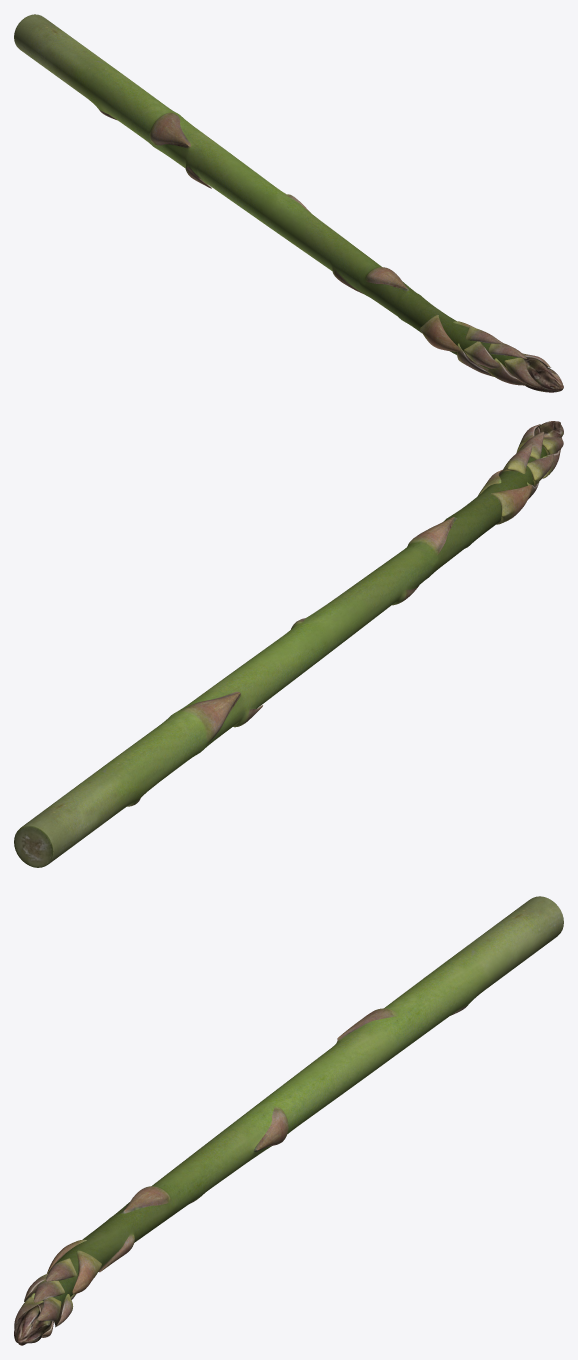
The model's file is asparagus.obj.
The picture shows the model from 3 angles, top to bottom: view 1: azimuth 30°, elevation 25°; view 2: azimuth 150°, elevation 25°; view 3: azimuth 330°, elevation 25°; orthographic projection. The views are drawn at different scales.
Visible parts, largest first — view 1: Vegetable; view 2: Vegetable; view 3: Vegetable.
Boxes of the visible parts, x1=… form: Vegetable: x1=14, y1=14, x2=563, y2=392; Vegetable: x1=14, y1=421, x2=563, y2=867; Vegetable: x1=14, y1=896, x2=563, y2=1345.
Size of the model in its own units: 1.46 by 0.9995 by 20.57.
